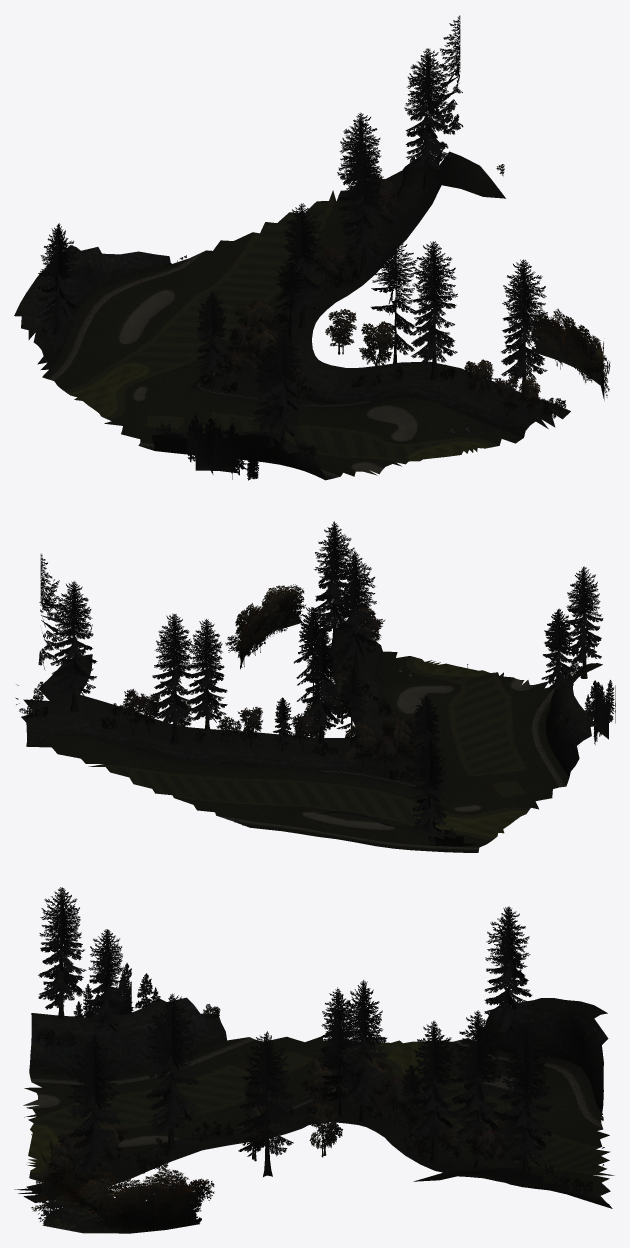
File: cell_7_-16.gltf
3 renders of one model, top to bottom at view 1: azimuth 30°, elevation 25°; view 2: azimuth 150°, elevation 25°; view 3: azimuth 270°, elevation 25°, orthographic. The views are drawn at different scales.
Parts seen in each view (by area): view 1: cell_7_-16; view 2: cell_7_-16; view 3: cell_7_-16.
Boxes of the visible parts, bbox=[...] form: cell_7_-16: bbox=[14, 15, 610, 480]; cell_7_-16: bbox=[15, 521, 615, 852]; cell_7_-16: bbox=[14, 887, 614, 1233].
Bounding box in the file's own units: 266 × 133 × 269.
Materials: 33 (33 with a texture image).
